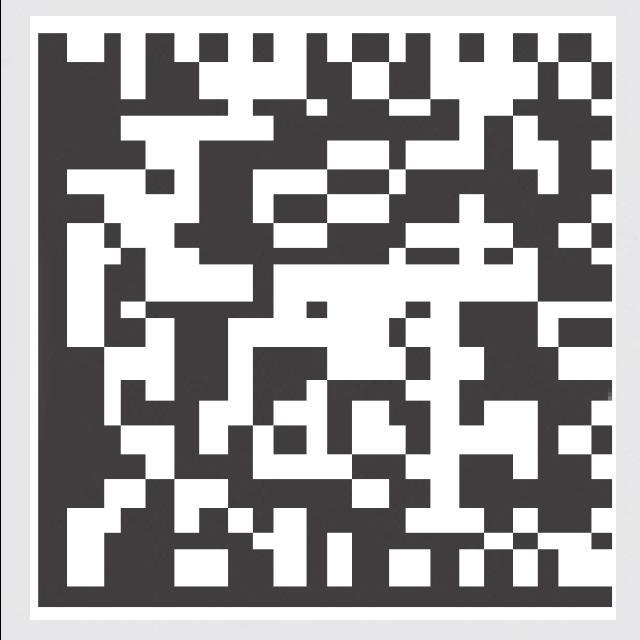Data-Matrix: (29, 16, 615, 620)
